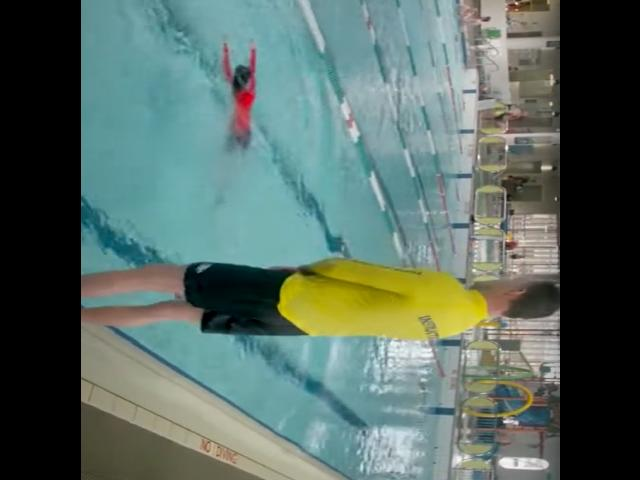drowning: (199, 40, 269, 206)
out of water: (80, 256, 557, 343)
